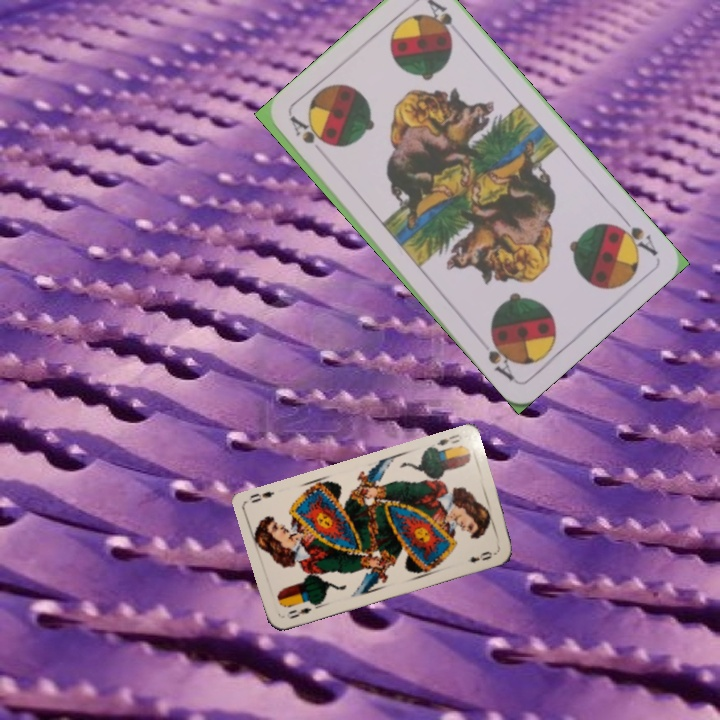EO: (433, 430, 465, 448), (285, 604, 314, 622)
SA: (608, 210, 661, 259), (287, 112, 331, 162)
